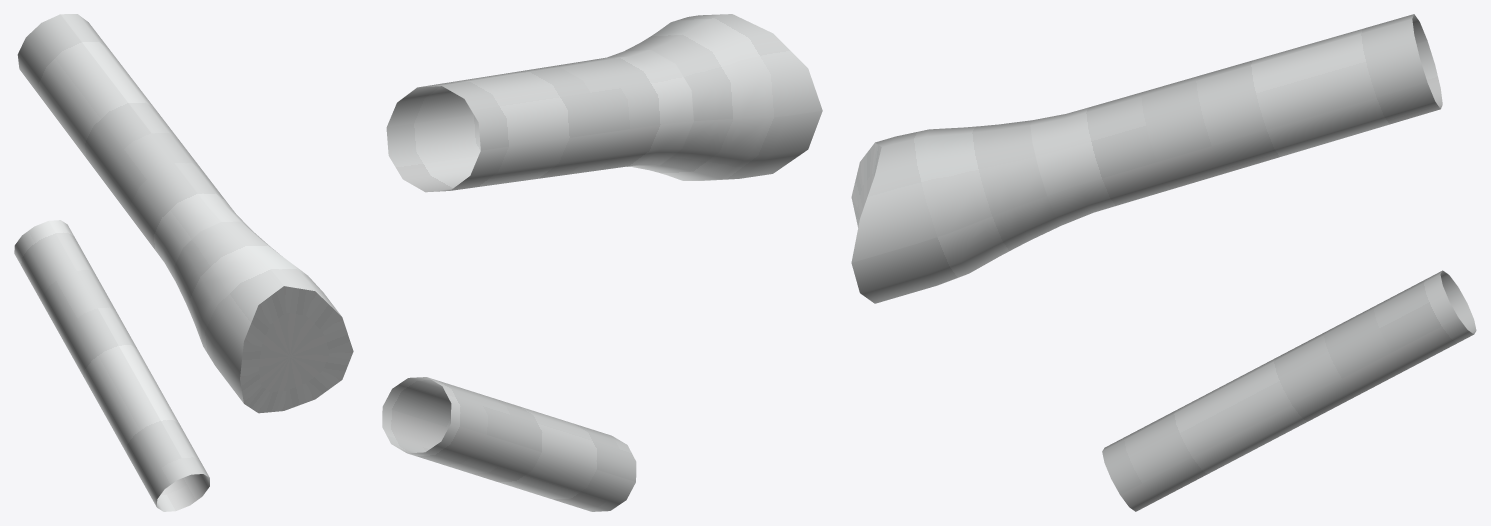
Rendered from luminairearm_truss12ftstraight_c0_thin.obj.
3 renders of one model, left to right at view 1: azimuth 30°, elevation 25°; view 2: azimuth 150°, elevation 25°; view 3: azimuth 270°, elevation 25°, orthographic. The views are drawn at different scales.
Parts seen in each view (by area): view 1: luminairearm_truss12ftstraight_c0_thin; view 2: luminairearm_truss12ftstraight_c0_thin; view 3: luminairearm_truss12ftstraight_c0_thin.
Boxes of the visible parts, bbox=[...] form: luminairearm_truss12ftstraight_c0_thin: bbox=[14, 14, 353, 511]; luminairearm_truss12ftstraight_c0_thin: bbox=[382, 14, 822, 511]; luminairearm_truss12ftstraight_c0_thin: bbox=[851, 14, 1476, 511].
Size of the model in its own units: 0.3375 by 1.17 by 1.35.
